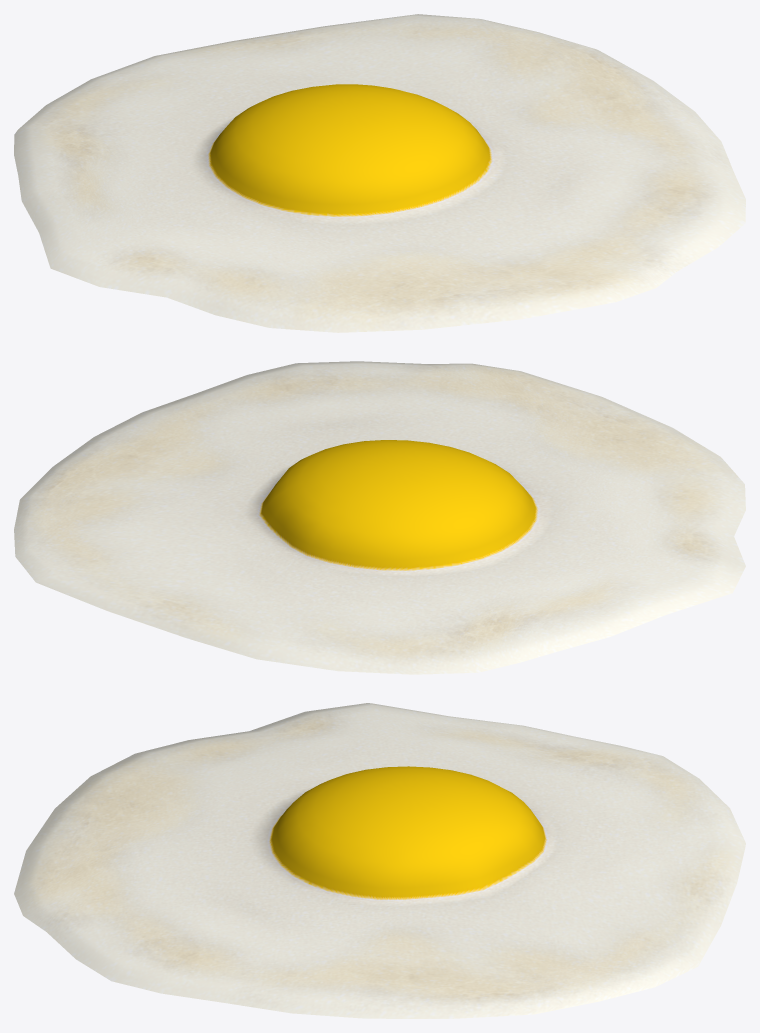
File: Egg_Cracked_21.obj
3 views of the same model, one above another, from view 1: azimuth 30°, elevation 25°; view 2: azimuth 150°, elevation 25°; view 3: azimuth 270°, elevation 25° (orthographic).
Visible parts, largest first — view 1: fried_egg_20; view 2: fried_egg_20; view 3: fried_egg_20.
Part boxes in pixels (x1,y1,x2,y2): fried_egg_20: [14, 14, 745, 332]; fried_egg_20: [14, 361, 745, 674]; fried_egg_20: [14, 703, 745, 1018].
Bounding box in the file's own units: 0.1451 × 0.014 × 0.142.
